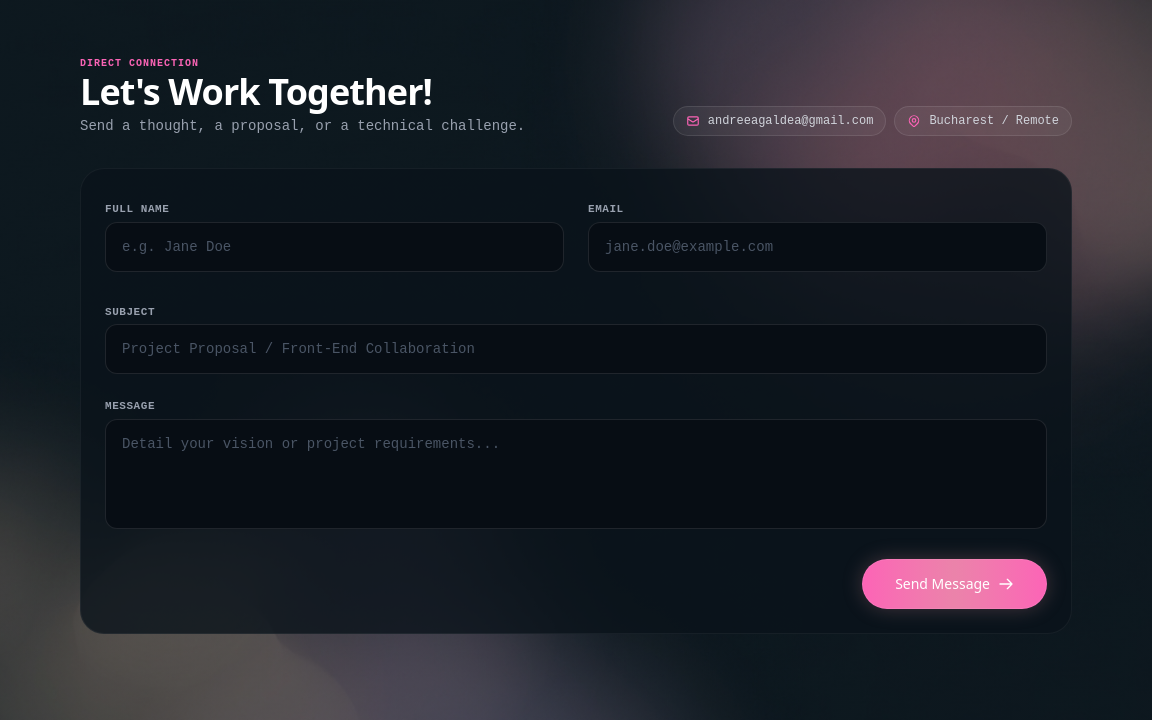
Contact component › shows an error message and preserves input values when EmailJS fails
Type "Jane Doe" into the field labelled "FULL NAME".
click(334, 246); type("Jane Doe")  # box 105,222 -> 564,272
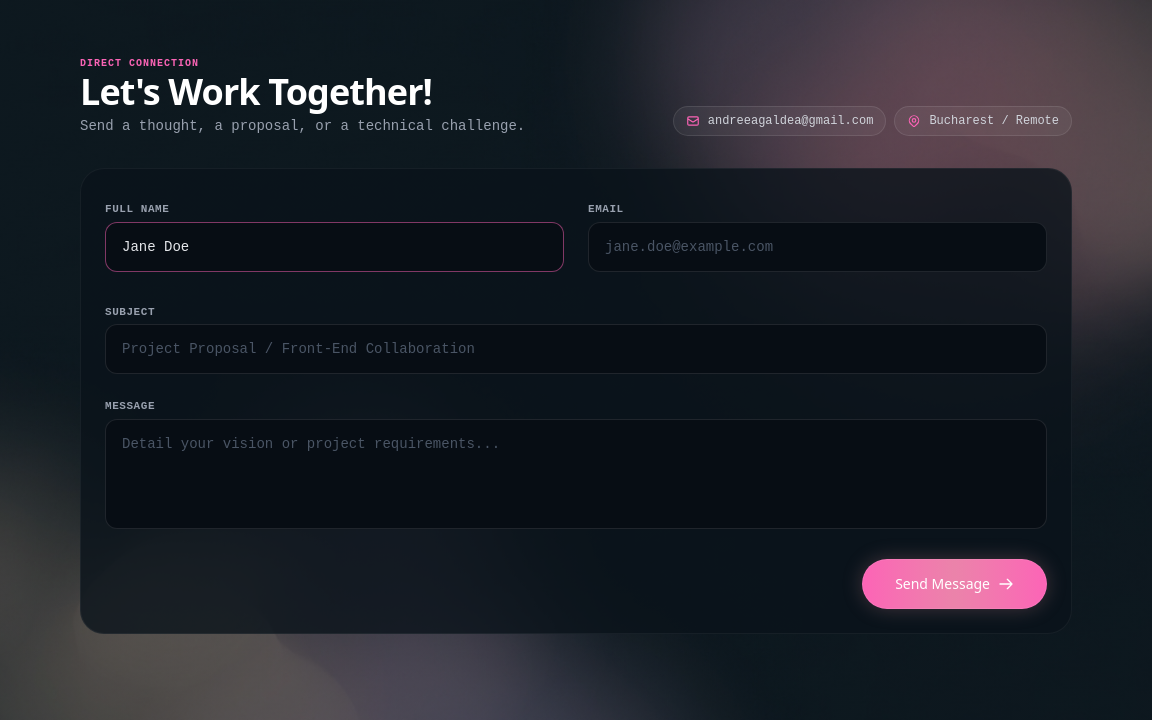
Type "jane@example.com" into the field labelled "EMAIL".
click(818, 246); type("jane@example.com")  # box 588,222 -> 1047,272
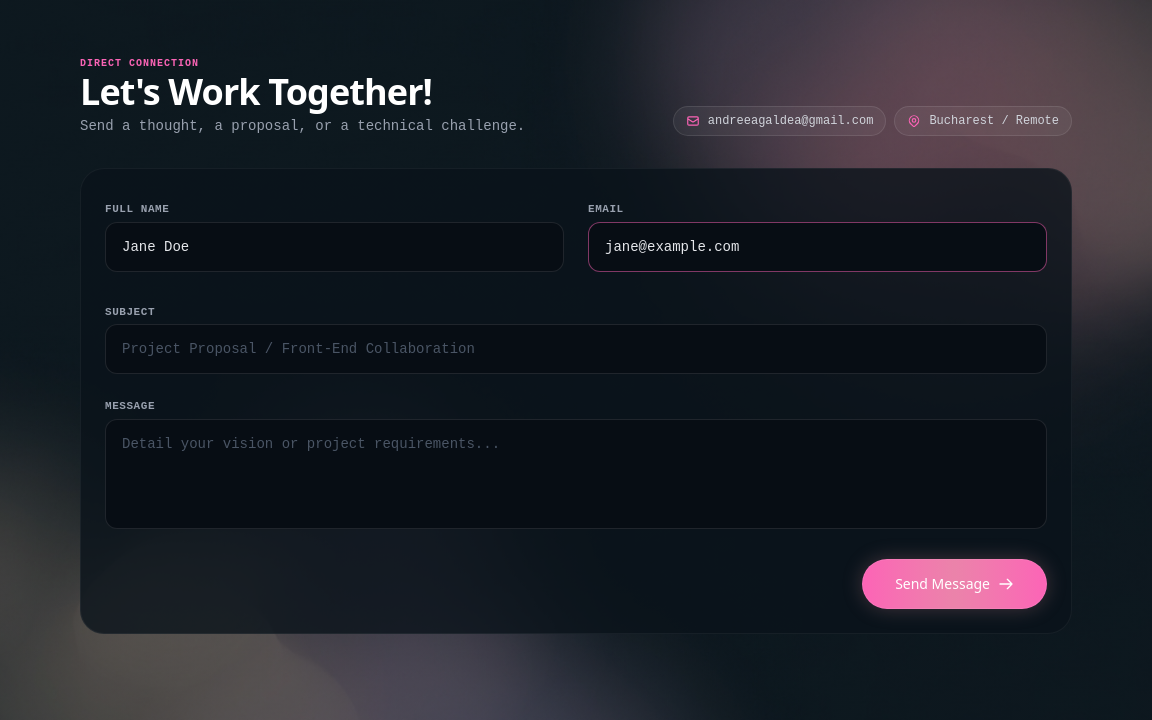
Type "Bug report" into the field labelled "SUBJECT".
click(576, 349); type("Bug report")  # box 105,324 -> 1047,374
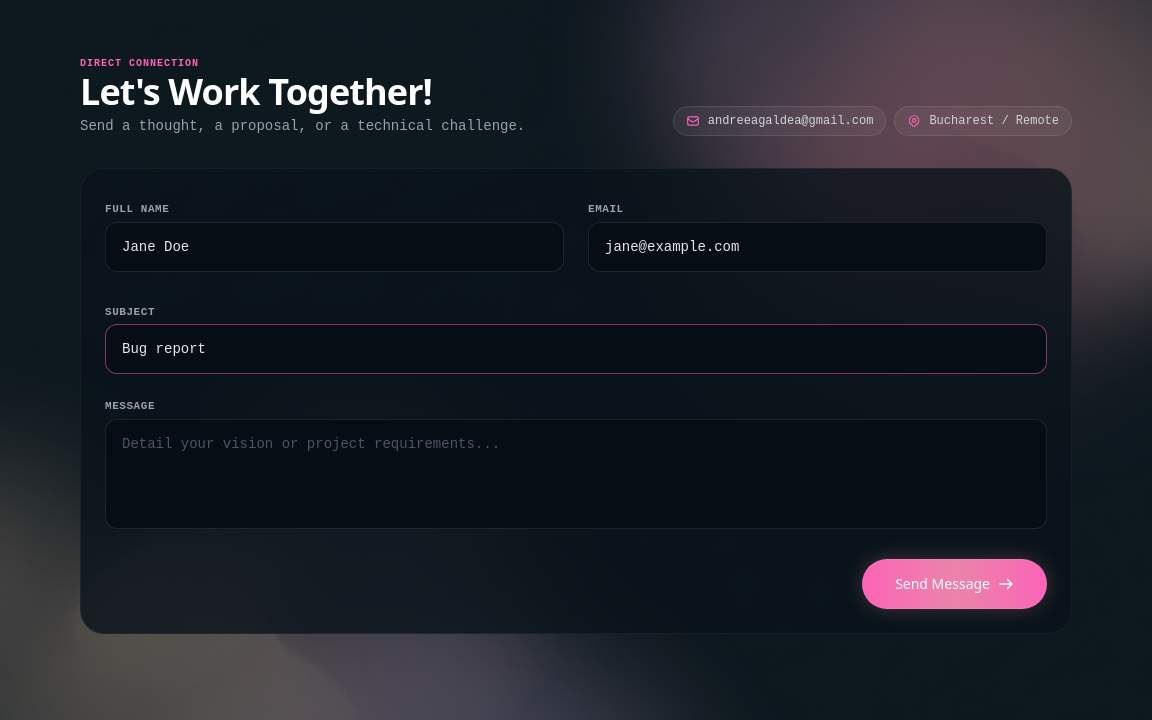
Type "Important details that should not be lost." into the text box labelled "MESSAGE".
click(576, 474); type("Important details that should not be lost.")  # box 105,418 -> 1047,528
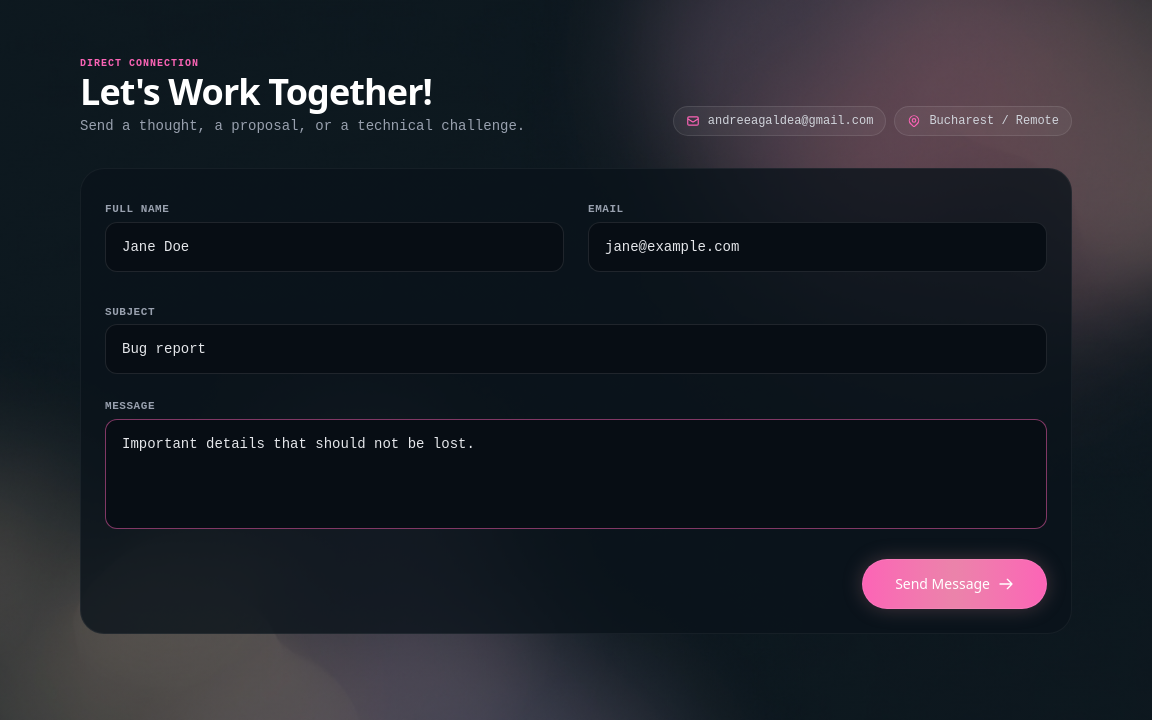
Click the button "Send Message".
click(955, 584)  # box 862,558 -> 1047,608
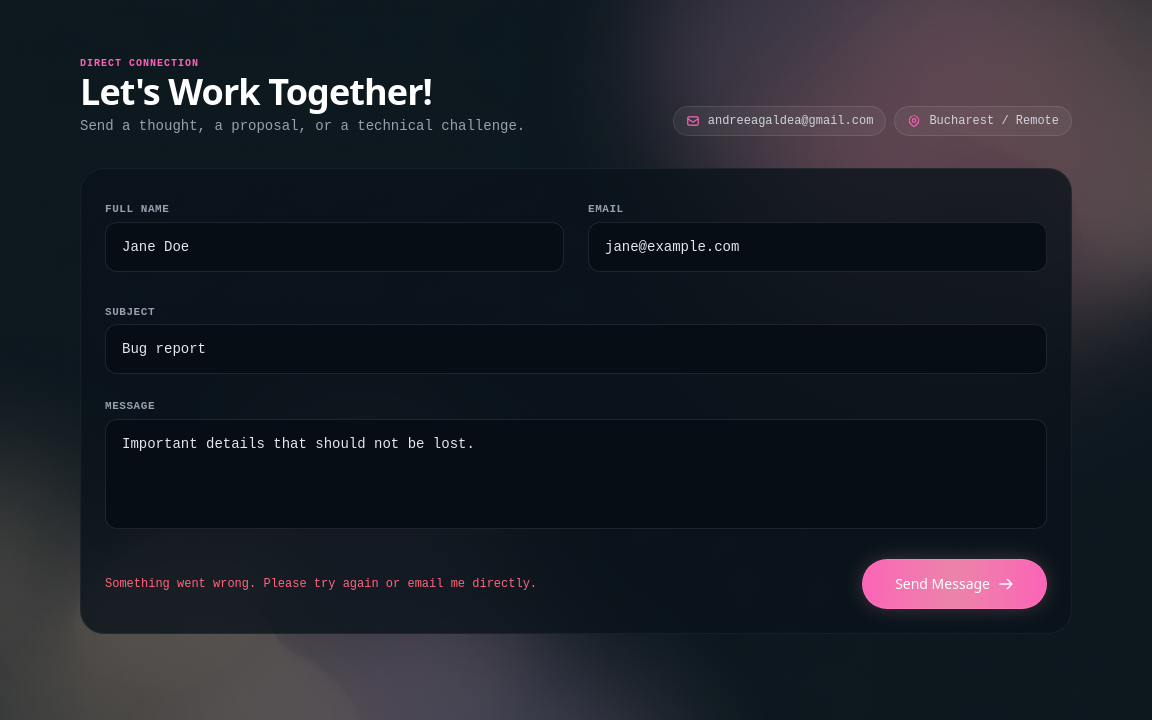
Result: the text "Something went wrong. Please try again or email me directly." is shown at 105,576 -> 537,592
